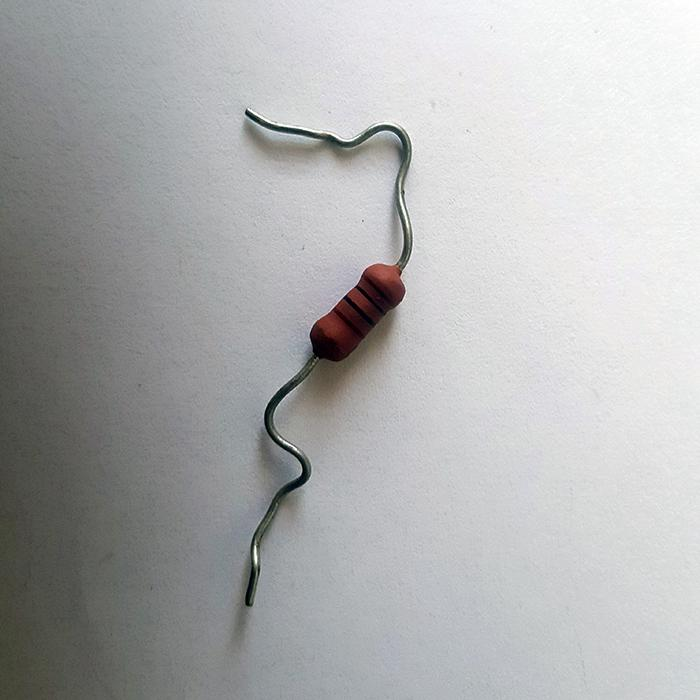resistor: (310, 262, 406, 362)
